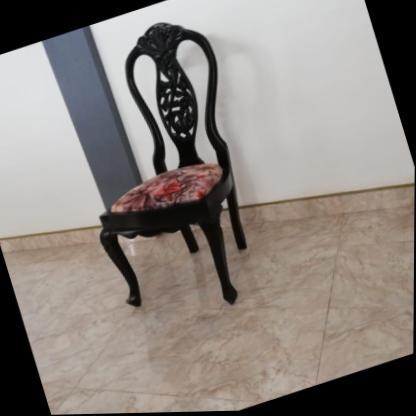Ceramic floor: (0, 186, 415, 415)
Chair: (42, 7, 286, 340)
